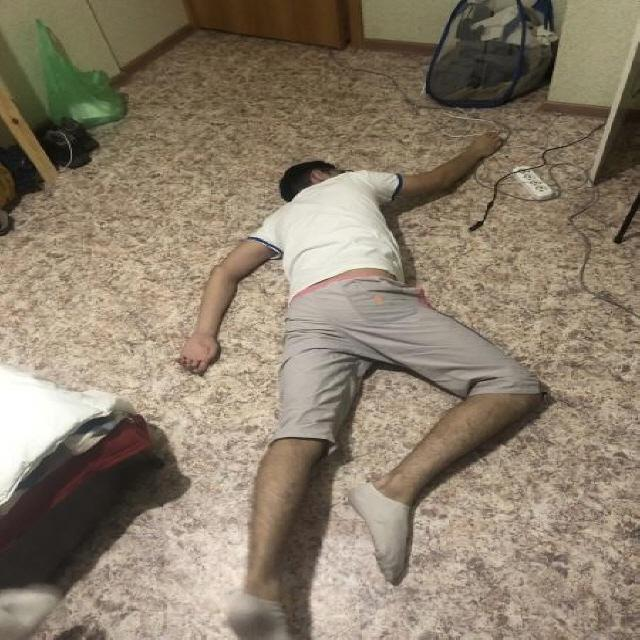Fall: (179, 132, 544, 640)
